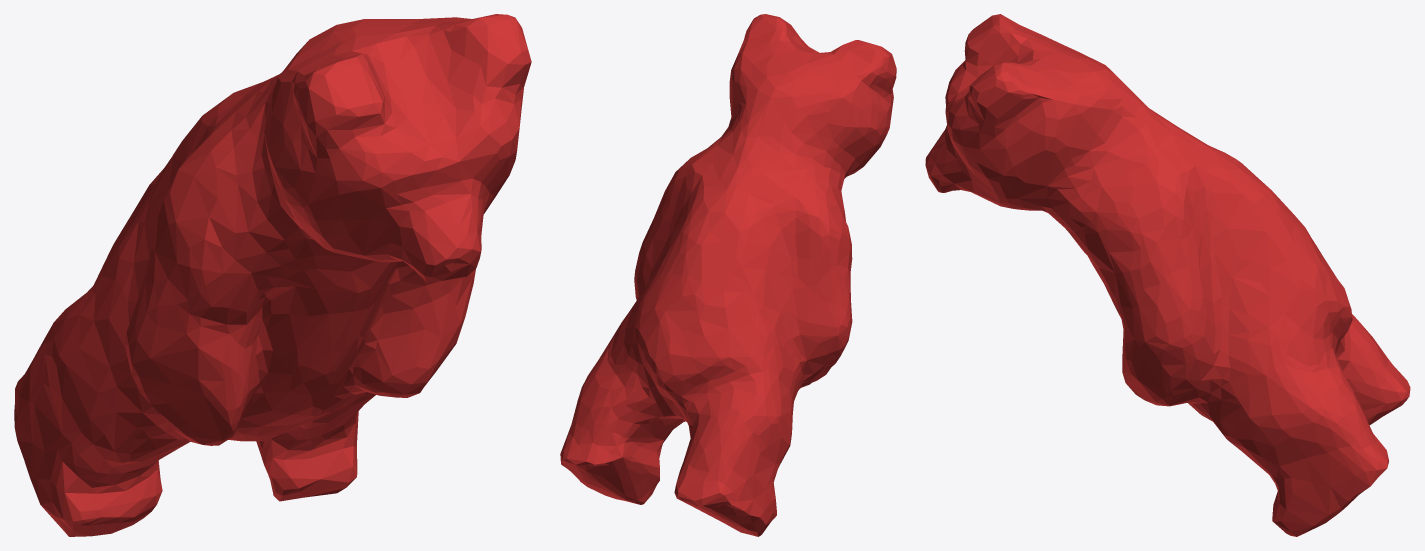
File: bear.glb
3 views of the same model, side by side, from view 1: azimuth 30°, elevation 25°; view 2: azimuth 150°, elevation 25°; view 3: azimuth 270°, elevation 25° (orthographic). The views are drawn at different scales.
Parts seen in each view (by area): view 1: Mesh; view 2: Mesh; view 3: Mesh.
Part boxes in pixels (x1=…): Mesh: x1=14, y1=14, x2=531, y2=536; Mesh: x1=560, y1=14, x2=896, y2=536; Mesh: x1=925, y1=14, x2=1410, y2=536.
Size of the model in its own units: 47.66 by 86.46 by 84.03.
